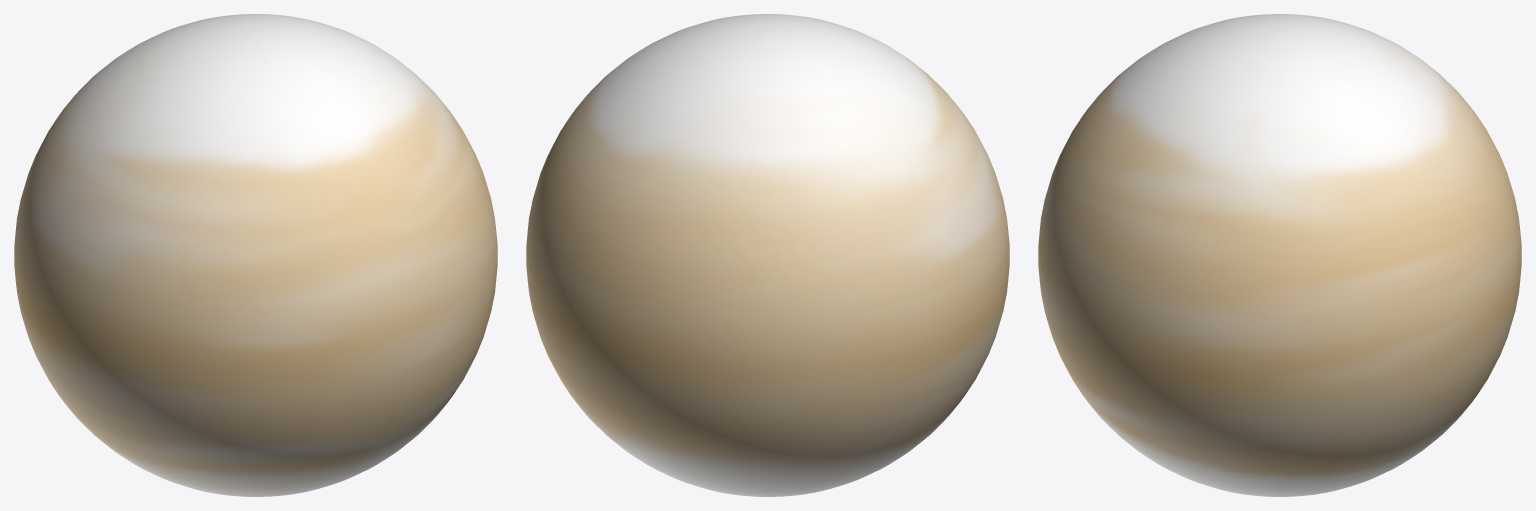
File: venus.glb
3 renders of one model, left to right at view 1: azimuth 30°, elevation 25°; view 2: azimuth 150°, elevation 25°; view 3: azimuth 270°, elevation 25°, orthographic.
Visible parts, largest first — view 1: cylindrically_mapped_sphere:Mesh; view 2: cylindrically_mapped_sphere:Mesh; view 3: cylindrically_mapped_sphere:Mesh.
Boxes of the visible parts, x1=… form: cylindrically_mapped_sphere:Mesh: x1=14, y1=14, x2=497, y2=496; cylindrically_mapped_sphere:Mesh: x1=526, y1=14, x2=1009, y2=496; cylindrically_mapped_sphere:Mesh: x1=1038, y1=14, x2=1521, y2=496.
Size of the model in its own units: 1000 by 1000 by 1000.
Materials: 1 (1 with a texture image).
